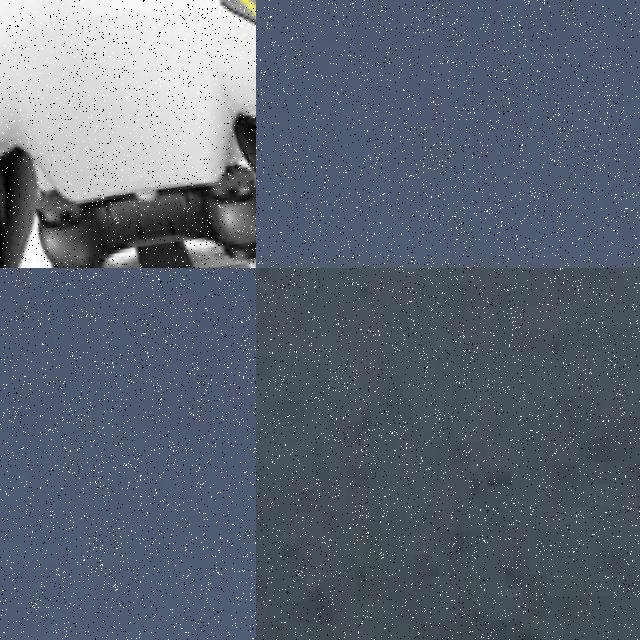drone: (0, 0, 256, 268)
